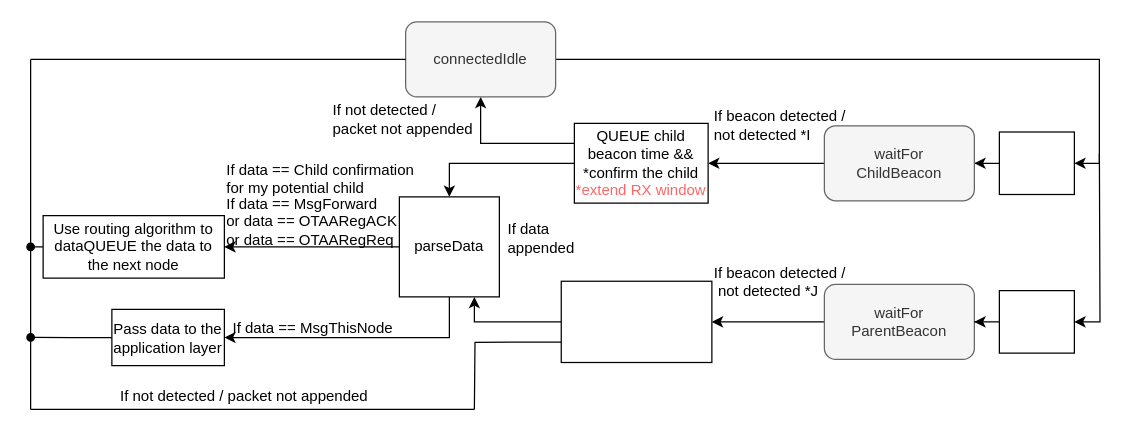
Image size: 1133x438. Some labels were removed from this diagram. The shapes that lost their labels are listed below. From the top down, each one's centre as x and y in pixels, then its label:
(x=1036, y=162): RX: wait for Child beacon
(x=636, y=321): QUEUE parent beacon time && *synchronise *extend RX window
(x=1036, y=321): RX: wait for Parent beacon
